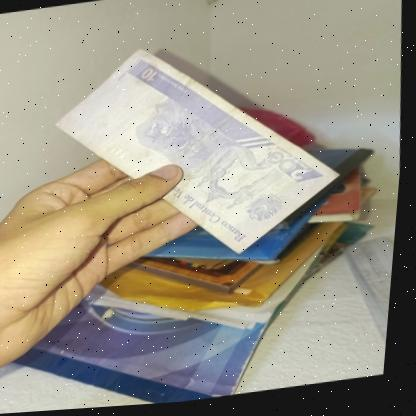ten-back-vef: (42, 27, 358, 282)
